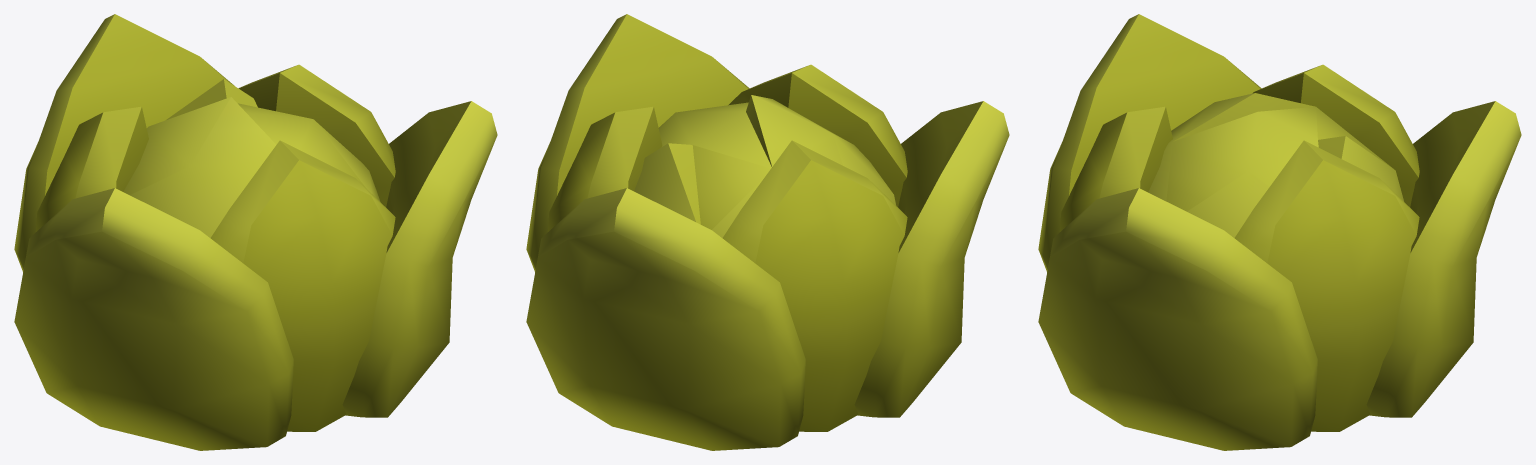
The model's file is lettuce.glb.
The picture shows the model from 3 angles, left to right: view 1: azimuth 30°, elevation 25°; view 2: azimuth 150°, elevation 25°; view 3: azimuth 270°, elevation 25°; orthographic projection.
Parts seen in each view (by area): view 1: food_ingredient_lettuce; view 2: food_ingredient_lettuce; view 3: food_ingredient_lettuce.
Part boxes in pixels (box(x1,y1,x2,y2)): food_ingredient_lettuce: box(14, 14, 497, 450); food_ingredient_lettuce: box(526, 14, 1009, 450); food_ingredient_lettuce: box(1038, 14, 1521, 450).
Bounding box in the file's own units: 1.1 × 0.8205 × 1.13.
1 material, 1 textured.
